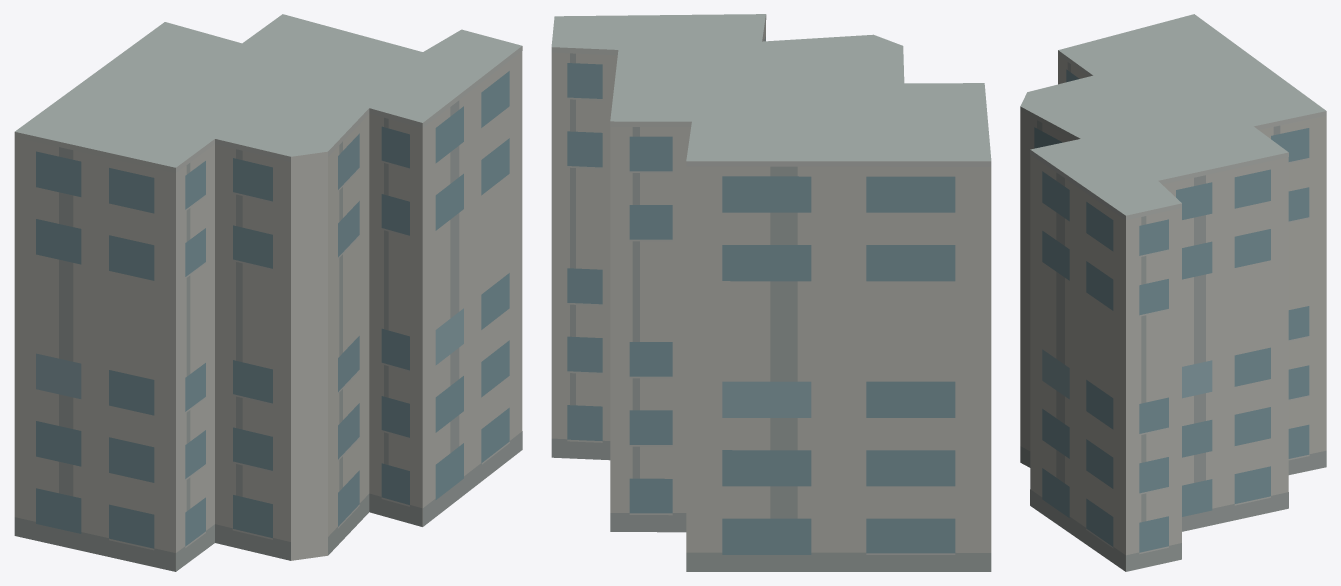
File: survey-upis-32690118.glb
3 views of the same model, side by side, from view 1: azimuth 30°, elevation 25°; view 2: azimuth 150°, elevation 25°; view 3: azimuth 270°, elevation 25° (orthographic). The views are drawn at different scales.
Visible parts, largest first — view 1: survey-upis-32690118.tmp; view 2: survey-upis-32690118.tmp; view 3: survey-upis-32690118.tmp.
Part boxes in pixels (x1=…): survey-upis-32690118.tmp: x1=14, y1=14, x2=522, y2=571; survey-upis-32690118.tmp: x1=551, y1=14, x2=991, y2=571; survey-upis-32690118.tmp: x1=1020, y1=14, x2=1326, y2=571.
Size of the model in its own units: 22.23 by 18.3 by 14.28.
